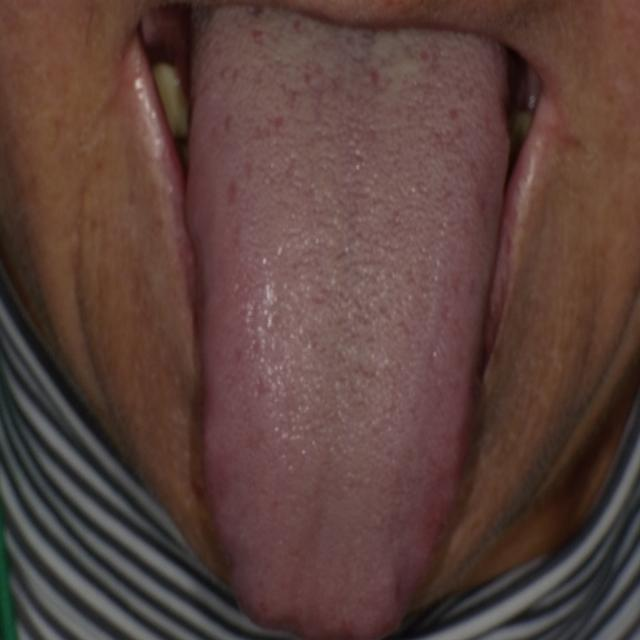baitaishe: (185, 5, 513, 640)
hongdianshe: (246, 25, 266, 44)
